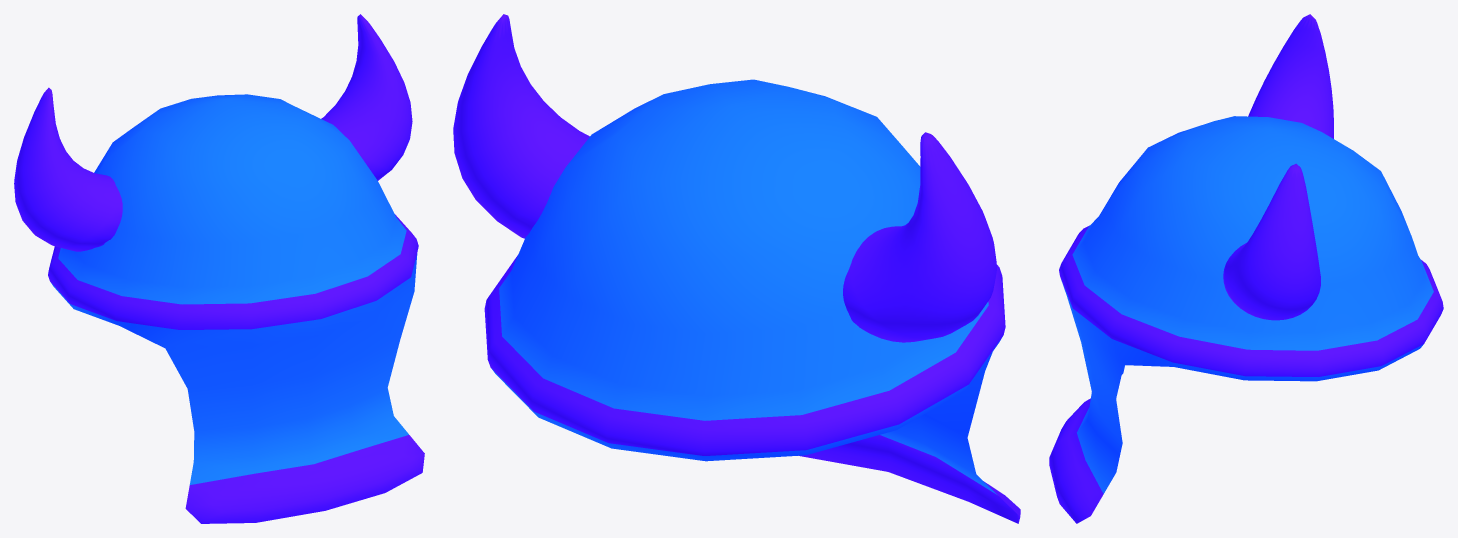
The model's file is HelmetHiden.fbx.
3 renders of one model, left to right at view 1: azimuth 30°, elevation 25°; view 2: azimuth 150°, elevation 25°; view 3: azimuth 270°, elevation 25°, orthographic. The views are drawn at different scales.
Visible parts, largest first — view 1: Halmet; view 2: Halmet; view 3: Halmet.
Boxes of the visible parts, x1,y1,x2,y2 form: Halmet: (14,14,424,523); Halmet: (453,14,1020,523); Halmet: (1049,14,1443,523).
Size of the model in its own units: 0.00125 by 0.00117 by 0.00108.
